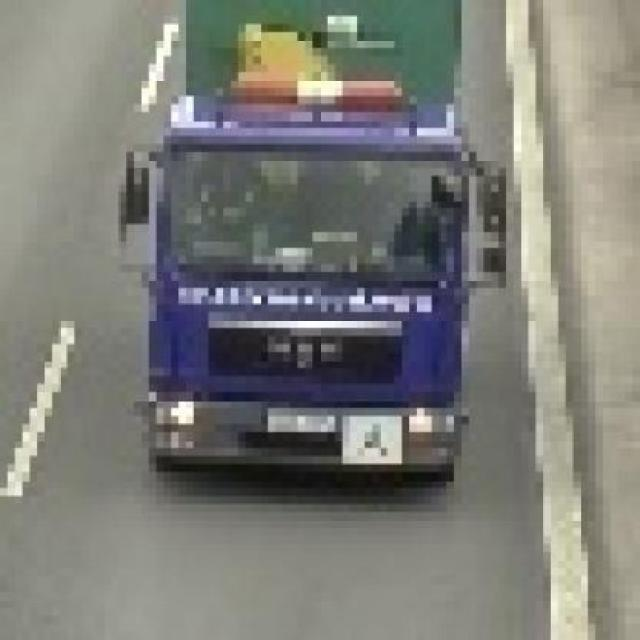truck: (111, 1, 507, 473)
